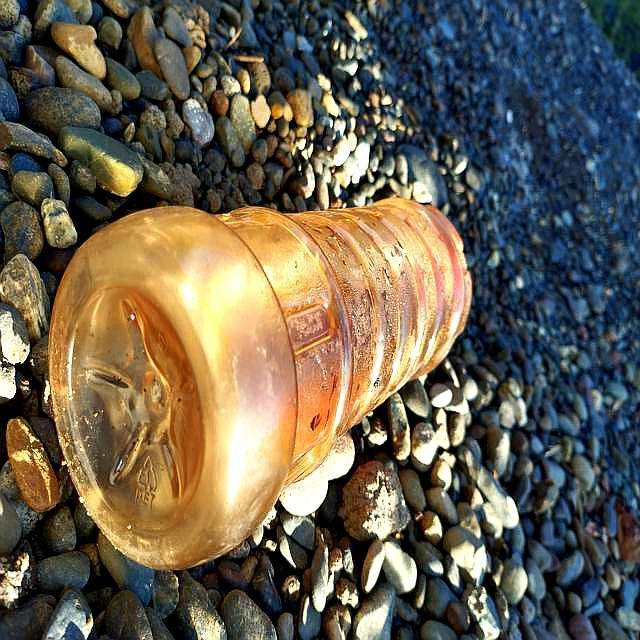Non-biodegradable: (46, 194, 475, 572)
